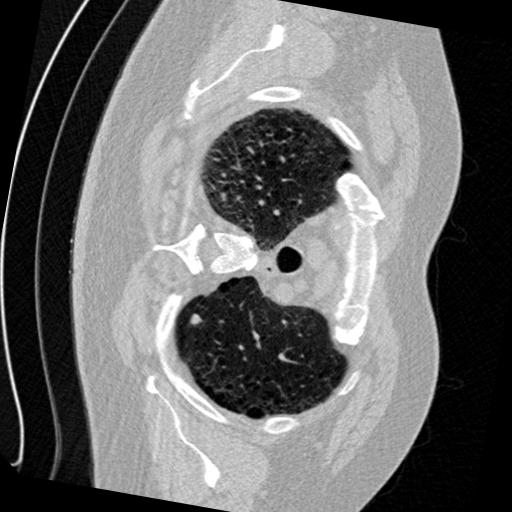nodule: (187, 309, 206, 328)
